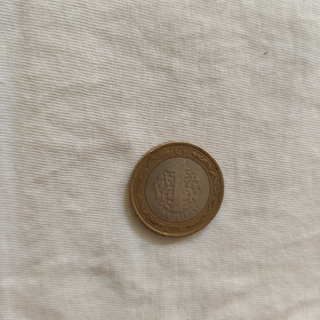1TL: (125, 138, 226, 239)
